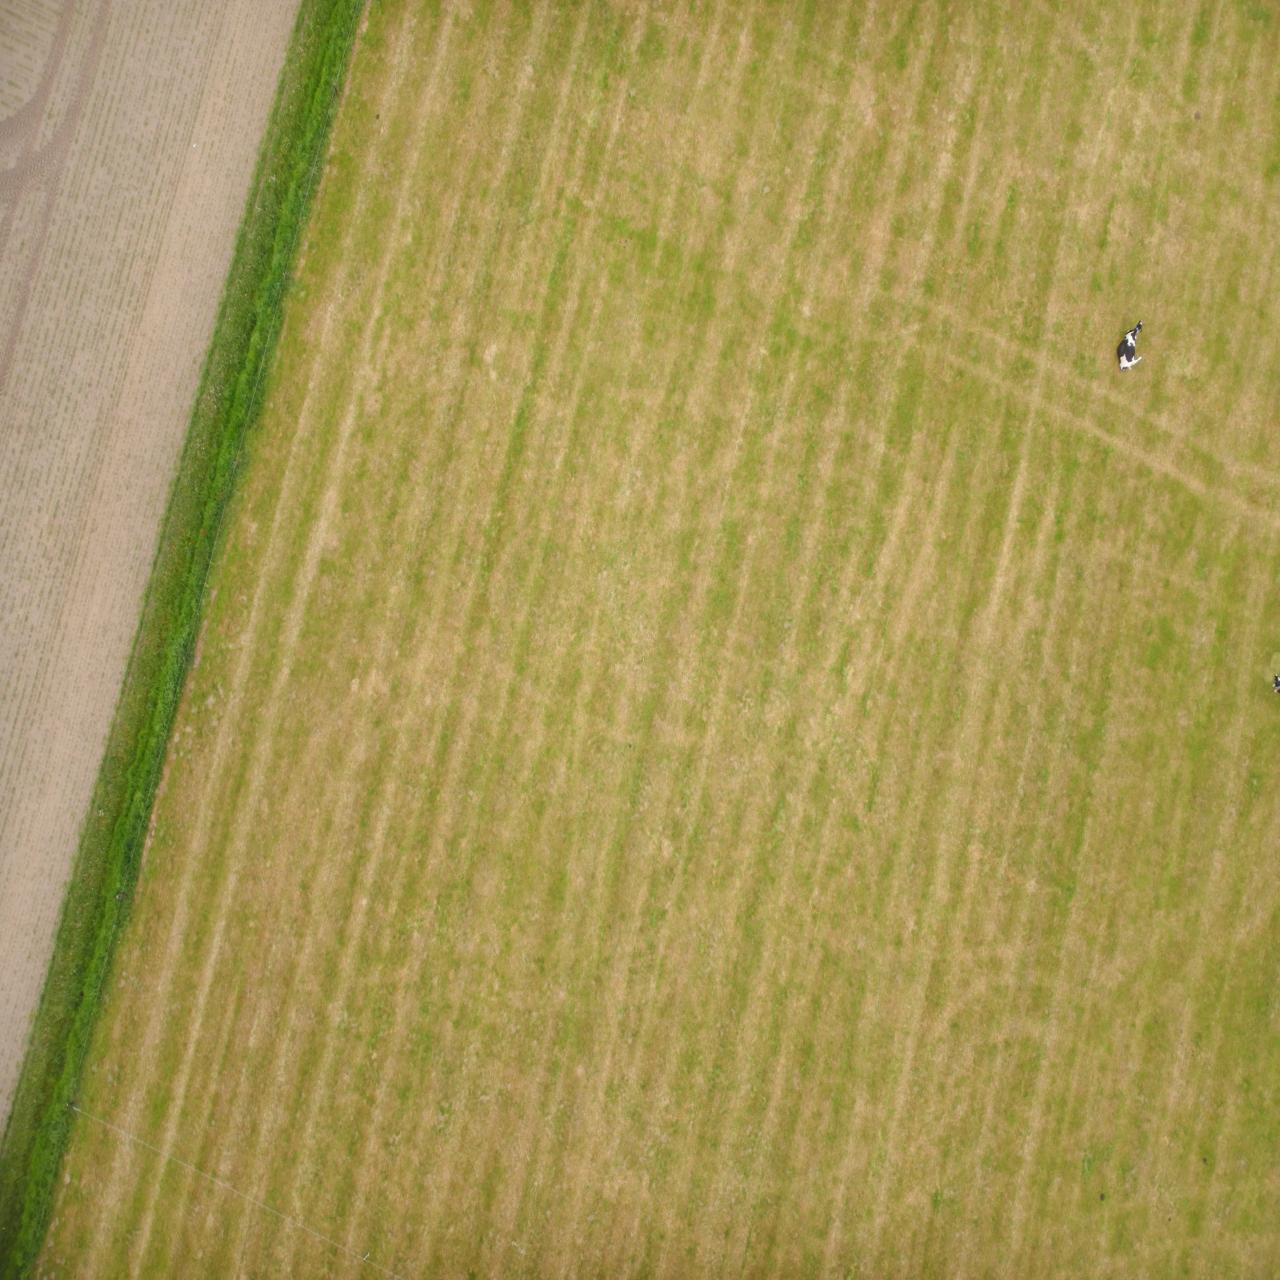cow: (137, 908, 163, 960)
